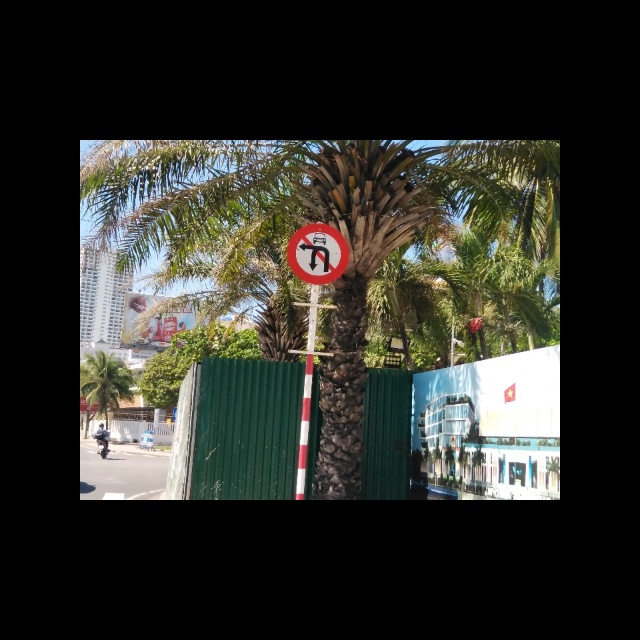Cấm xe ô tô quay đầu và rẽ trái: (282, 224, 352, 286)
